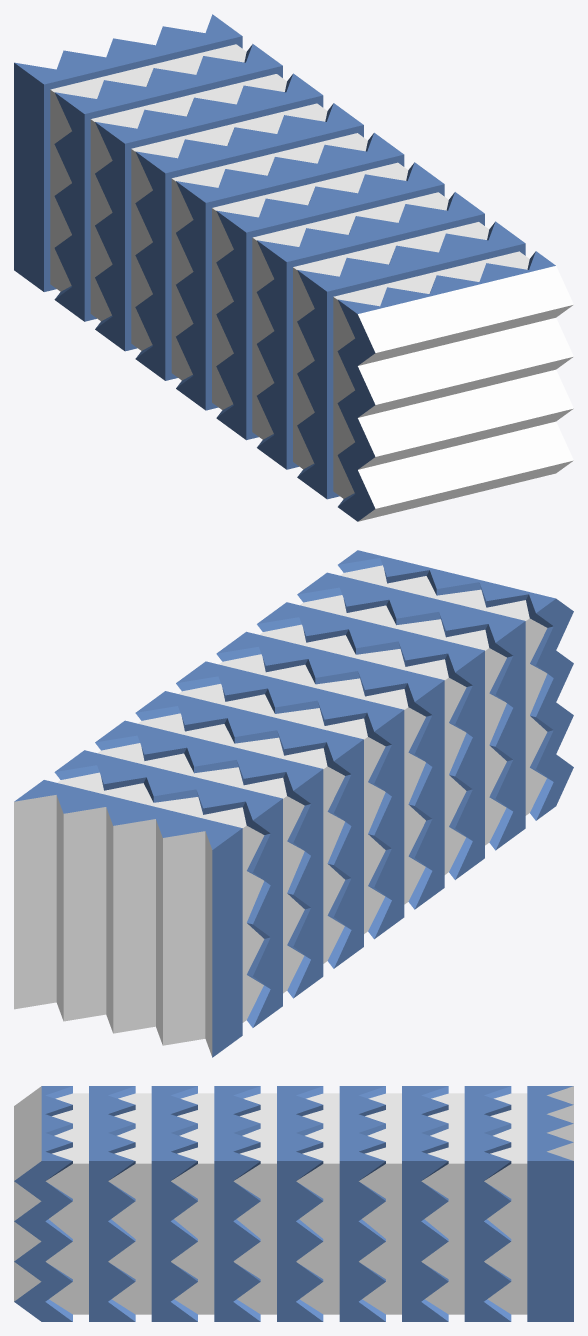
File: ScalePillar0.5x3_1.fbx
3 views of the same model, one above another, from view 1: azimuth 30°, elevation 25°; view 2: azimuth 150°, elevation 25°; view 3: azimuth 270°, elevation 25° (orthographic). The views are drawn at different scales.
Parts seen in each view (by area): view 1: ScalePillar0.5x3_1; view 2: ScalePillar0.5x3_1; view 3: ScalePillar0.5x3_1.
Part boxes in pixels (x1,y1,x2,y2): ScalePillar0.5x3_1: (14,14,573,521); ScalePillar0.5x3_1: (14,550,573,1057); ScalePillar0.5x3_1: (14,1086,573,1321).
Size of the model in its own units: 0.5 by 0.5 by 1.58.
